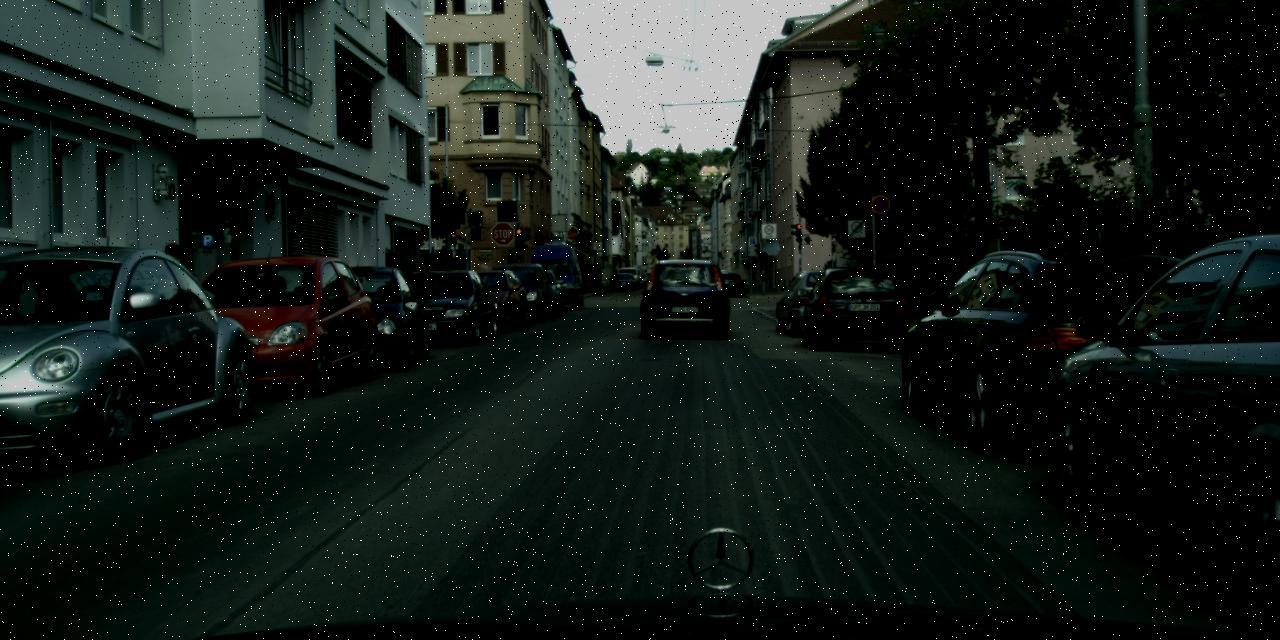ped: (152, 242, 192, 343)
